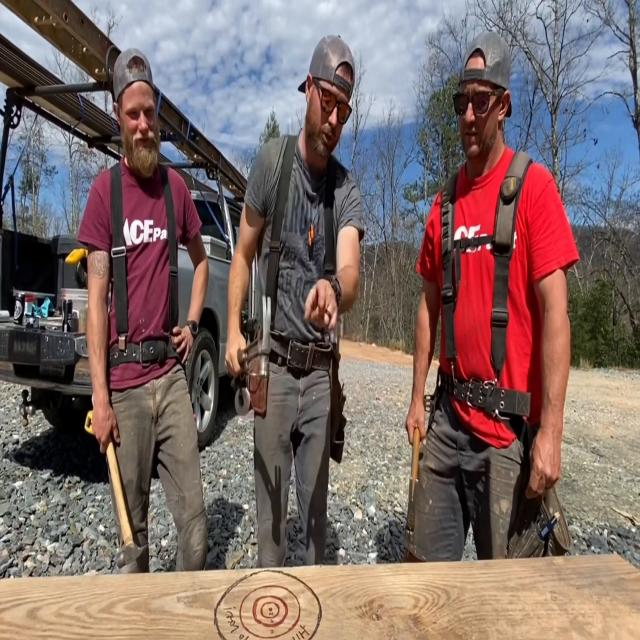hammer: (106, 438, 146, 568), (239, 298, 271, 381), (399, 429, 420, 553)
